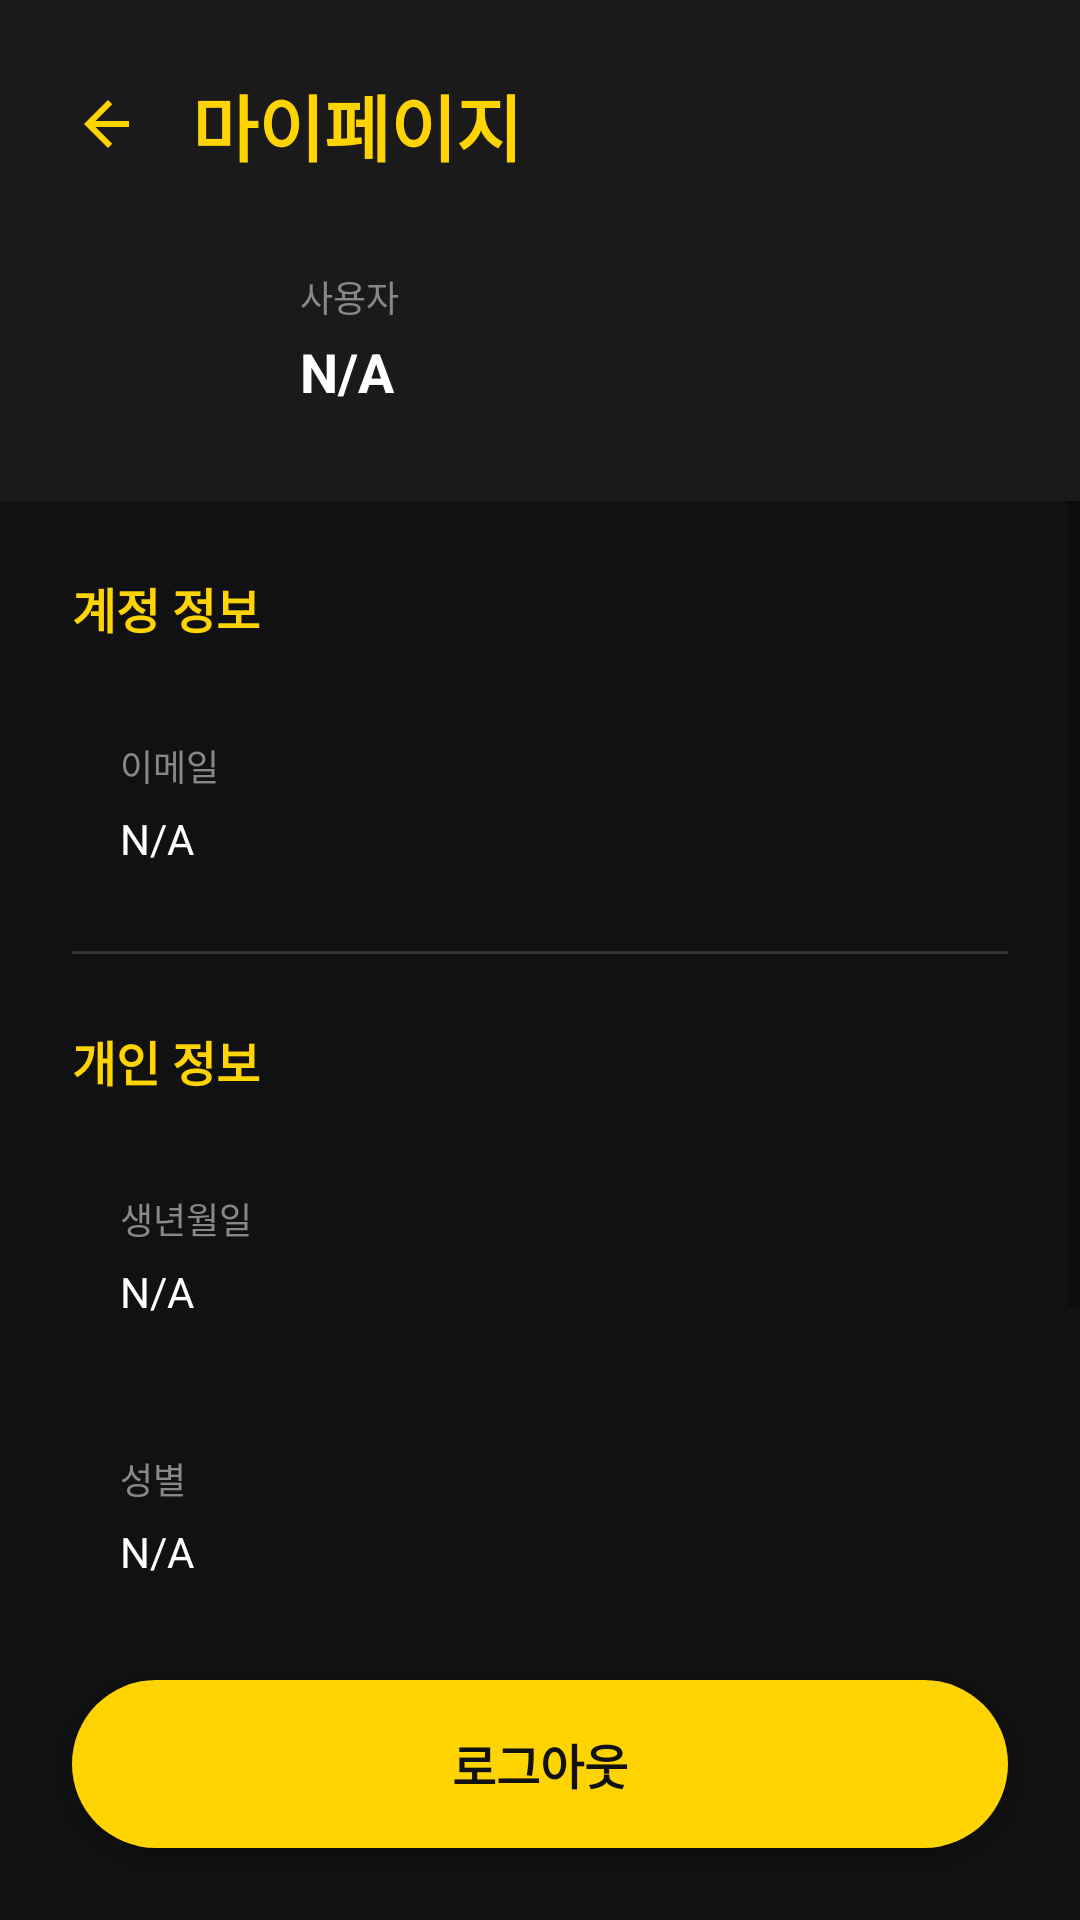

Icons on this 1080 x 1920 Android screen, each with the point to tap as [x,y]:
Back: [106,124]
